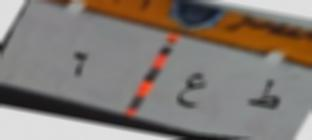6: (64, 38, 98, 80)
Taa: (246, 74, 283, 113)
ain: (176, 65, 212, 113)
